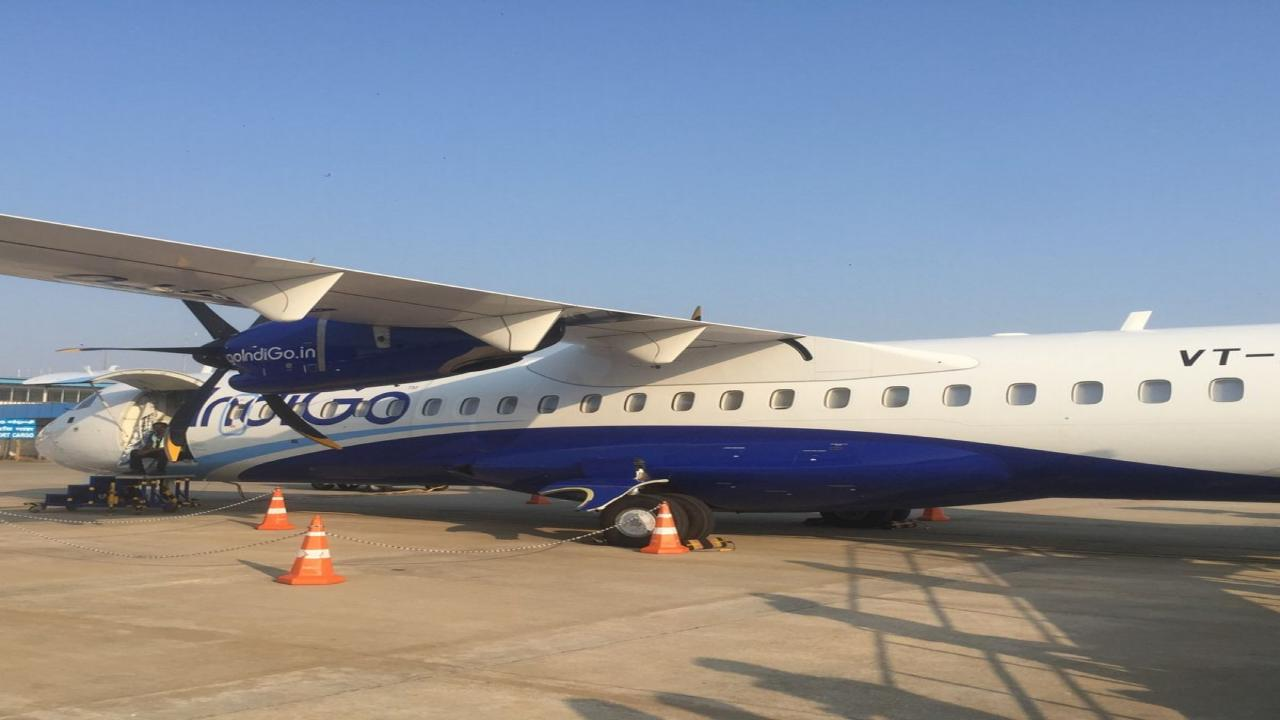Airplane: (0, 209, 1280, 536)
